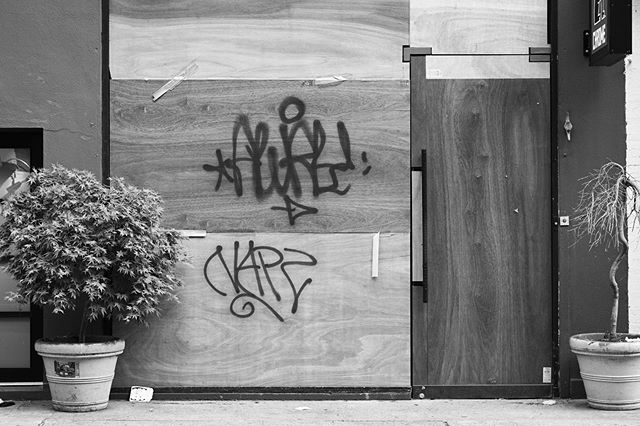door: (406, 49, 554, 396)
graffiti: (206, 94, 370, 225), (194, 231, 333, 327)
tree: (1, 158, 192, 411)
